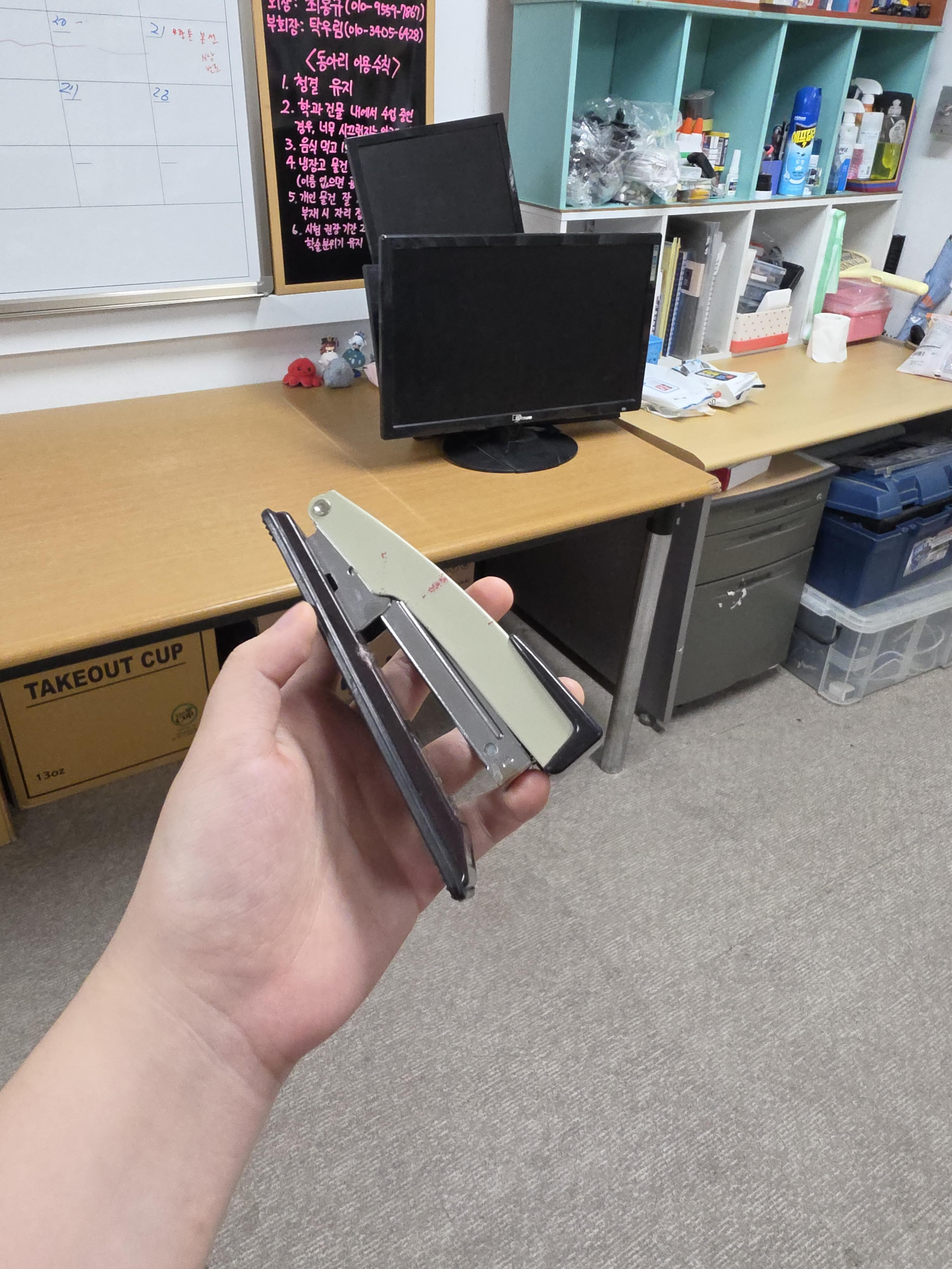stapler: (260, 490, 604, 902)
tissue: (730, 287, 792, 355), (810, 312, 851, 364)
